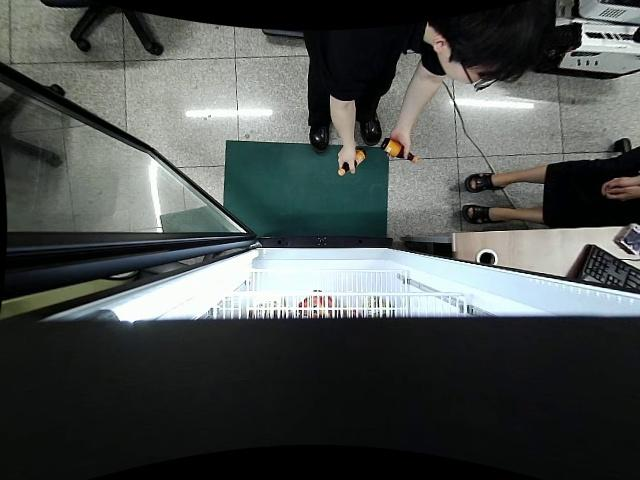00_hand: (389, 127, 413, 161), (337, 144, 353, 177)
17_vita500: (378, 139, 420, 163), (338, 148, 366, 178)
